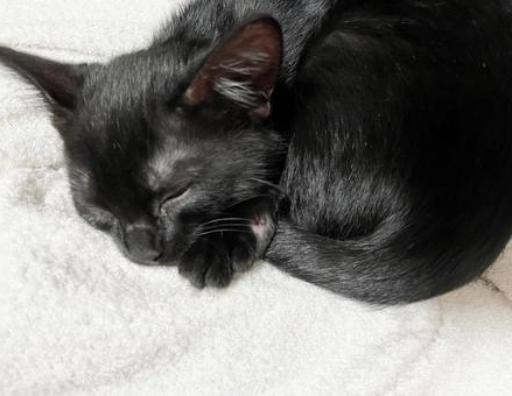cat_sleeping: (1, 0, 512, 303)
